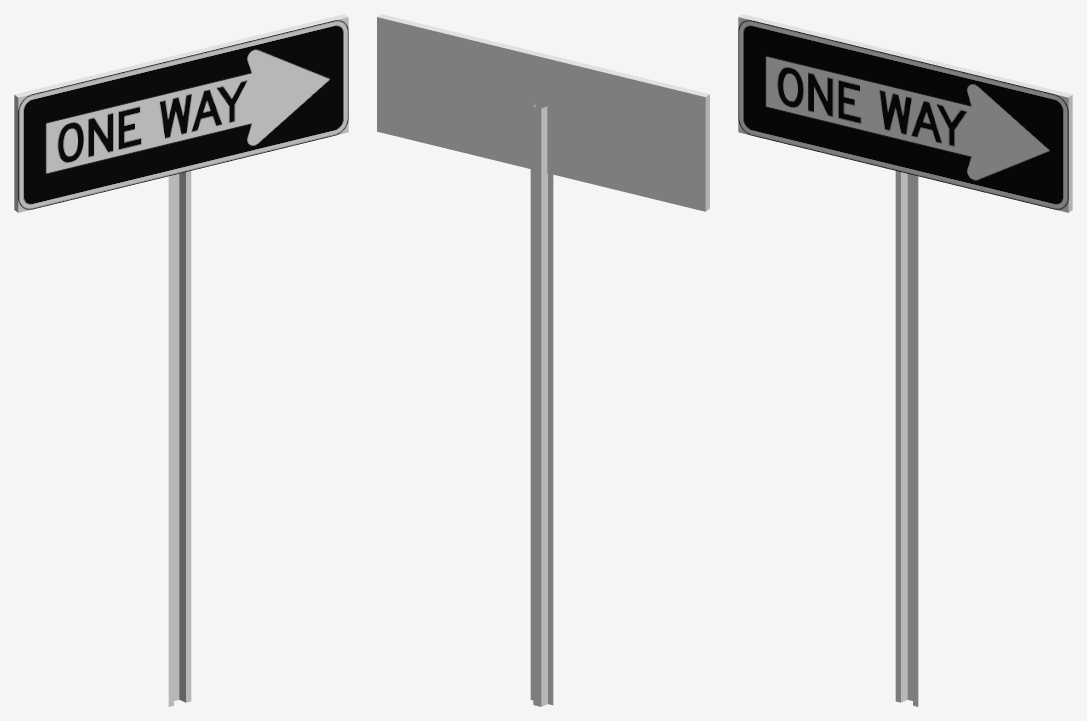
File: one_way_right.dae
3 views of the same model, side by side, from view 1: azimuth 30°, elevation 25°; view 2: azimuth 150°, elevation 25°; view 3: azimuth 330°, elevation 25° (orthographic).
Visible parts, largest first — view 1: Cube, Box001_001; view 2: Cube, Box001_001; view 3: Cube, Box001_001.
Part boxes in pixels (<box>): Cube: <box>14,14,348,212</box>; Box001_001: <box>168,171,191,706</box>; Cube: <box>377,14,709,211</box>; Box001_001: <box>530,104,553,706</box>; Cube: <box>738,14,1072,212</box>; Box001_001: <box>895,171,918,706</box>.
Bounding box in the file's own units: 0.9 × 0.0391 × 1.69.
2 materials, 1 textured.
